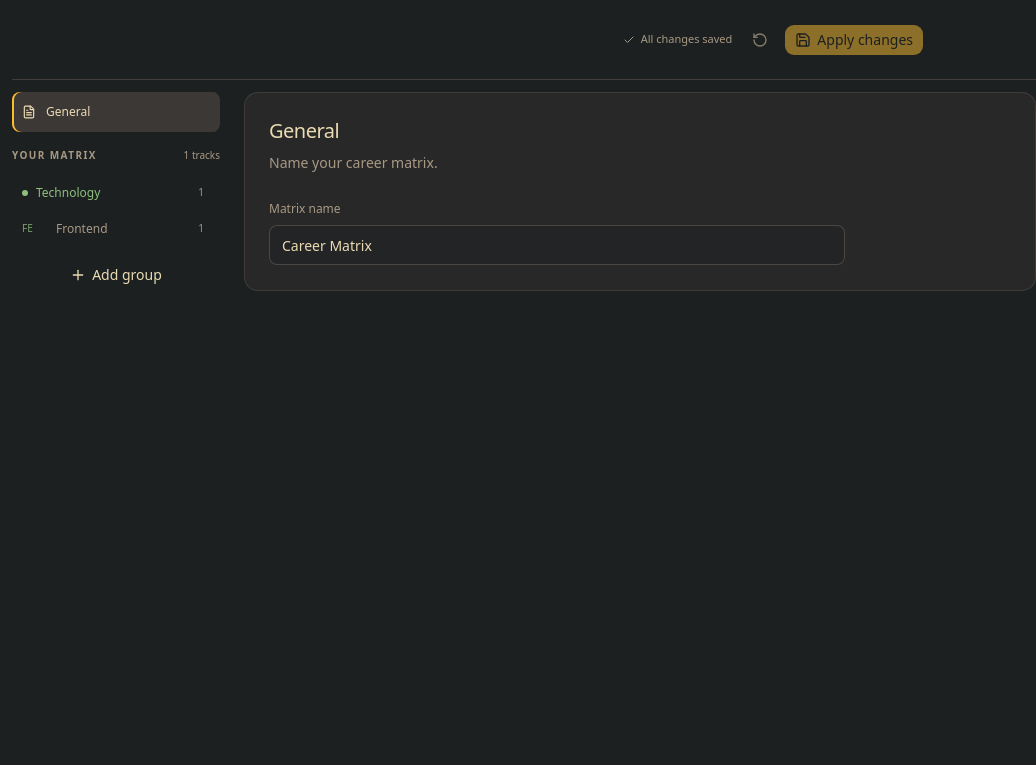
Scenario: <DocumentForm /> › edits and submits the document configuration
Check: the form named "Document settings" is shown, box [12, 0, 1035, 303]
Check: the heading "General" is shown, box [269, 117, 339, 144]
Replace the text in the field labelled "Matrix name" with "Updated Career Matrix": (557, 245) [269, 225, 845, 265]
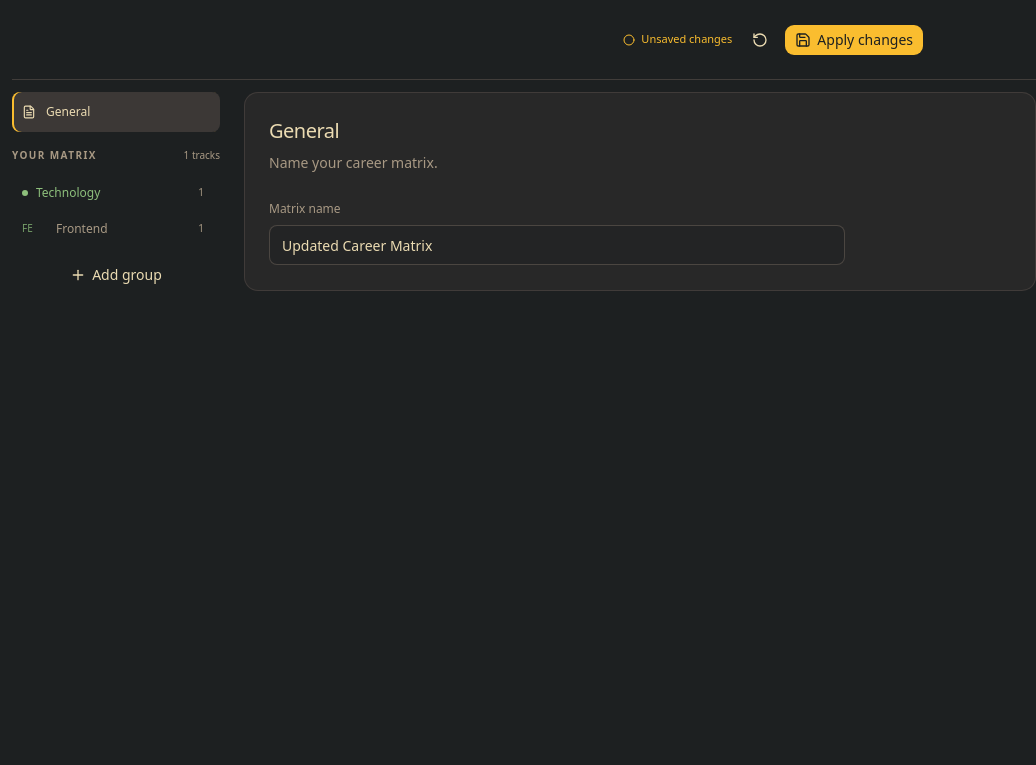
Click the button "FE Frontend 1": (113, 229) [14, 213, 212, 245]
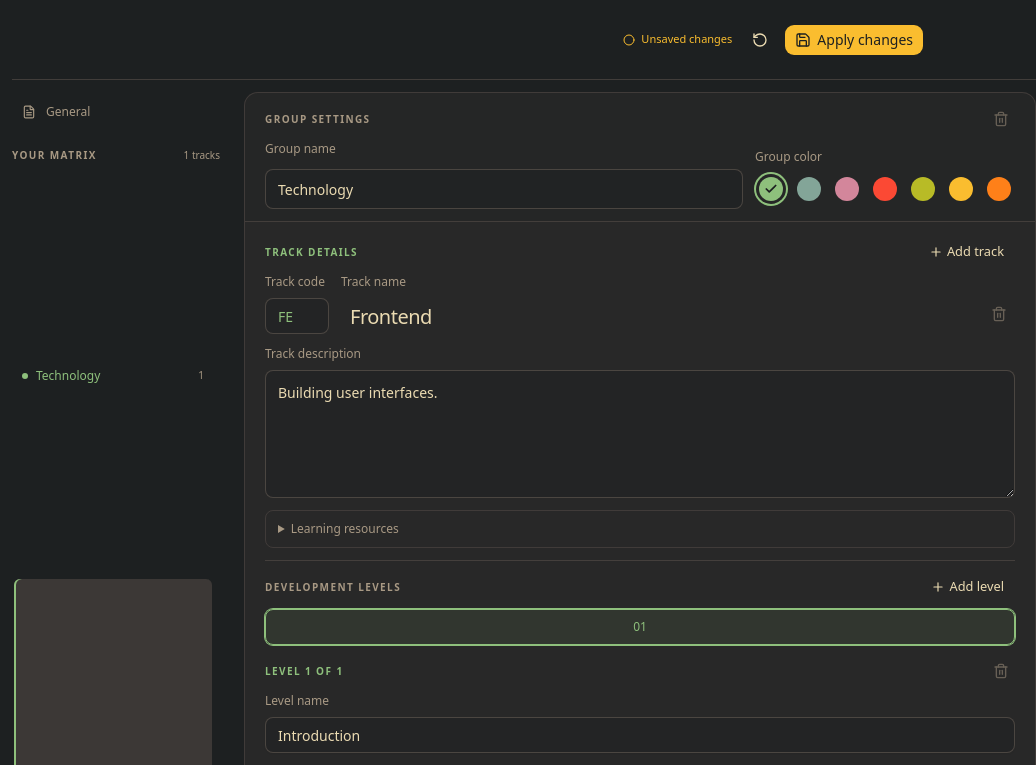
Check: the button named "Remove group" is disabled, box [987, 105, 1015, 133]
Check: the button named "Remove track" is disabled, box [983, 298, 1015, 330]
Check: the button named "Remove level" is disabled, box [987, 657, 1015, 685]
Click the button "Apply changes": (854, 40) [784, 24, 924, 56]
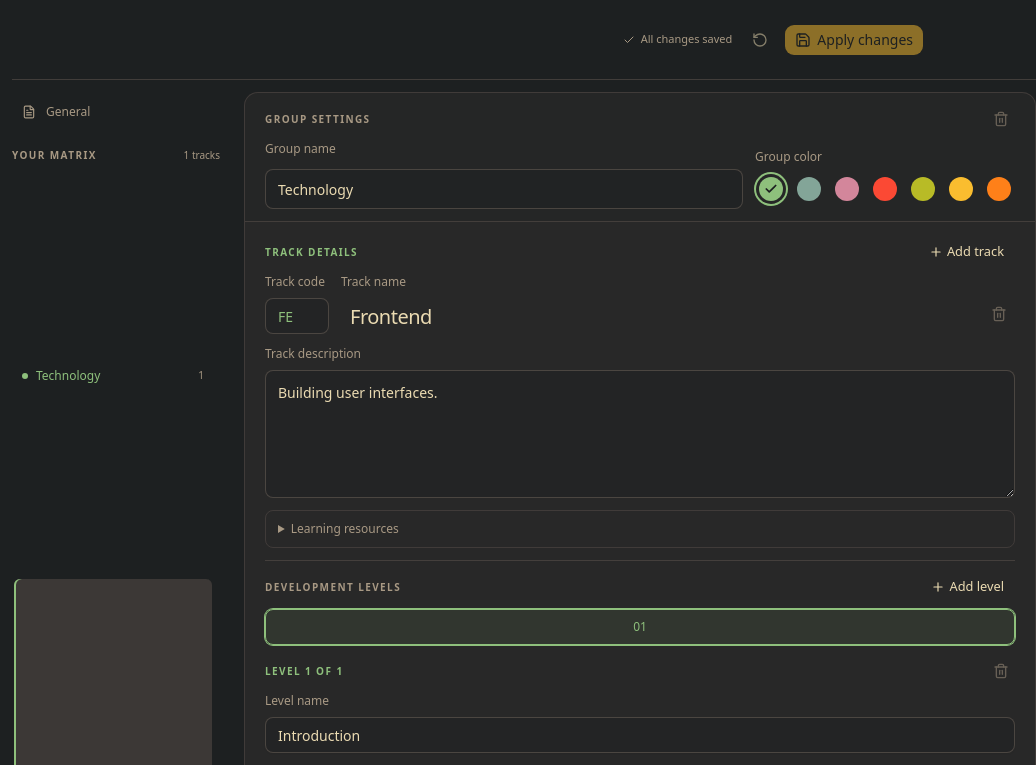
Check: the button "Apply changes" is disabled, box [784, 24, 924, 56]
